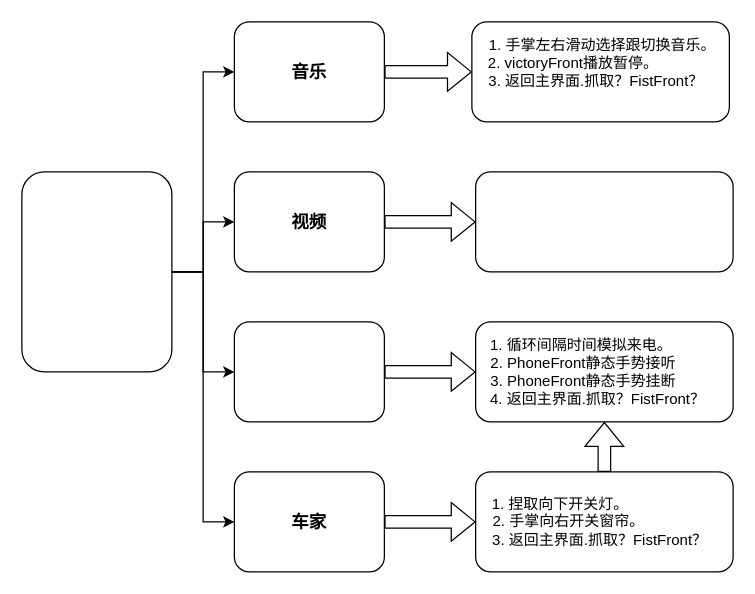
The diagram is 755 pixels wide and 594 high, and some of its shapes have lost their labels. Here are the shapes that lost their labels. From the top down, the centre of each, then its label:
At point 603,221: "1. 手掌左右滑动选择视频。 2. Ok手势进入选择的视频。 3. 视频可播放公司的宣传视频 4 . 返回主界面.抓取？FistFront？".
At point 96,271: "主界面 1. 手掌左右滑动选择子界面 2. OK进入子界面 3. 所有界面都支持食指旋转调节音量".
At point 308,371: "电话".
